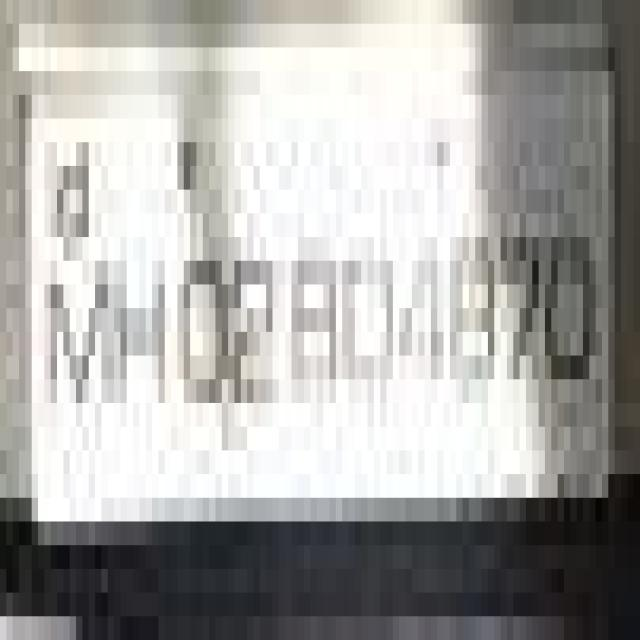license_plate: (0, 24, 615, 522)
